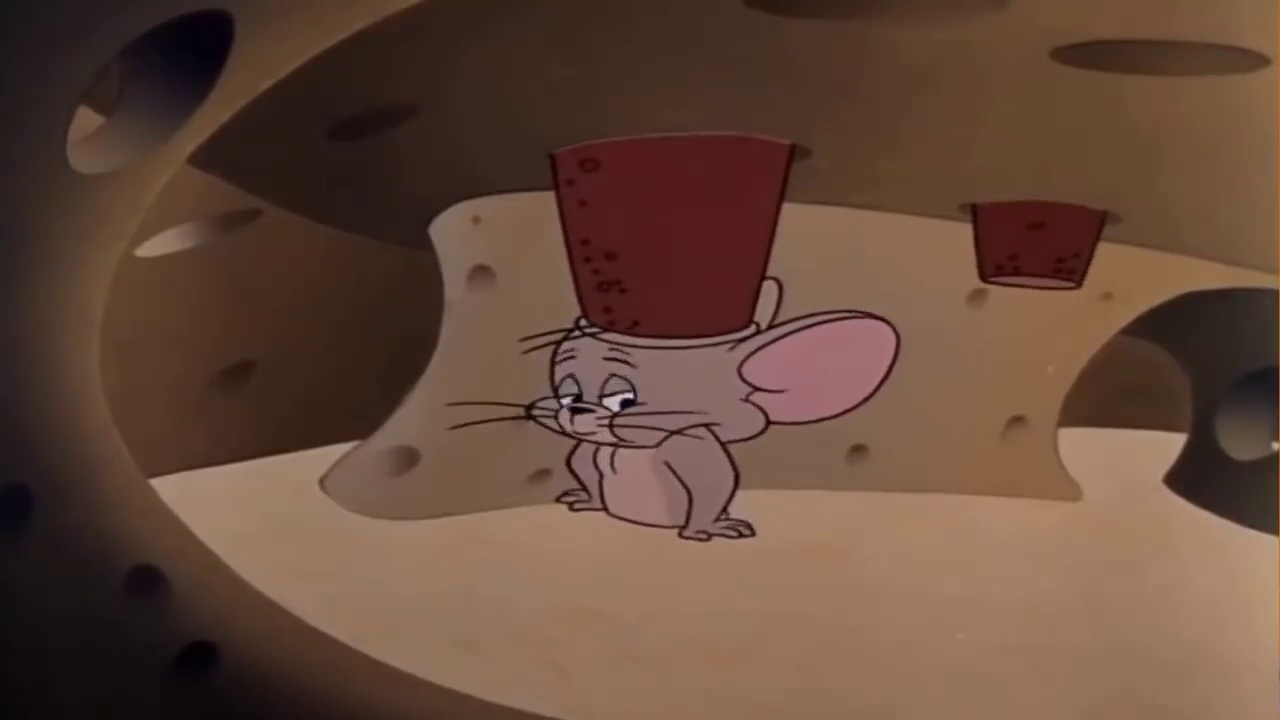face: (543, 345, 672, 448)
